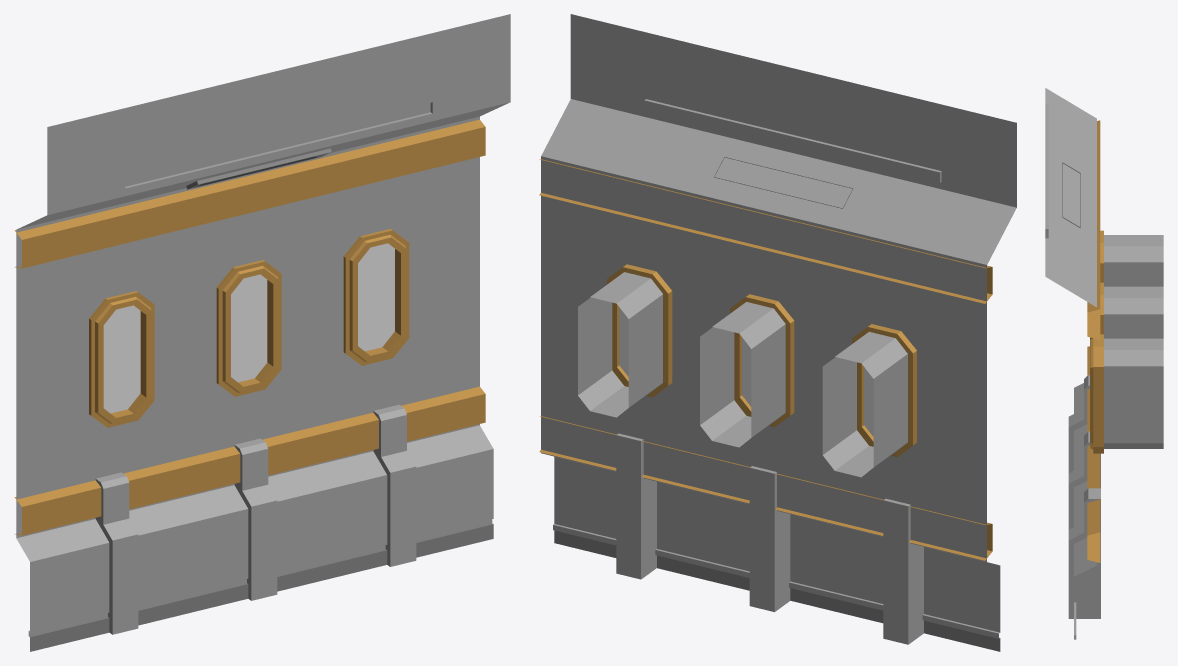
Rendered from threewindows_wall_sidea.glb.
The picture shows the model from 3 angles, left to right: view 1: azimuth 30°, elevation 25°; view 2: azimuth 150°, elevation 25°; view 3: azimuth 270°, elevation 25°; orthographic projection. The views are drawn at different scales.
Parts seen in each view (by area): view 1: ThreeWindows_Wall_SideA; view 2: ThreeWindows_Wall_SideA; view 3: ThreeWindows_Wall_SideA.
Part boxes in pixels (box(x1,y1,x2,y2)): ThreeWindows_Wall_SideA: box(14, 14, 510, 651); ThreeWindows_Wall_SideA: box(539, 14, 1016, 651); ThreeWindows_Wall_SideA: box(1045, 88, 1163, 639).
Bounding box in the file's own units: 4 × 4.43 × 1.06.
